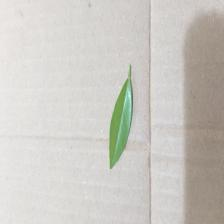healthy: (94, 54, 155, 173)
